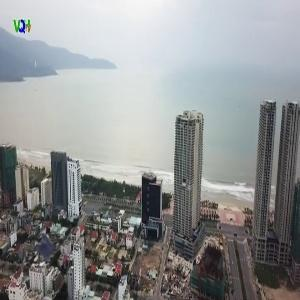drone: (8, 206, 82, 280)
